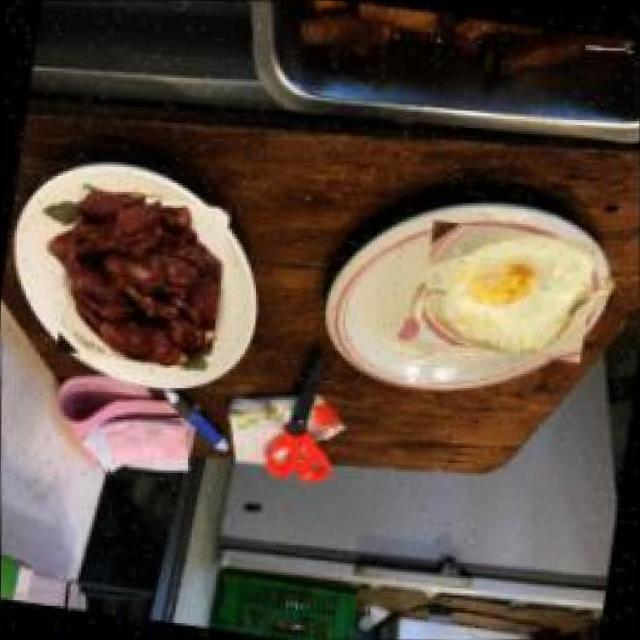chinese_sausage: (51, 186, 232, 377)
fried_eggs: (413, 217, 600, 368)
